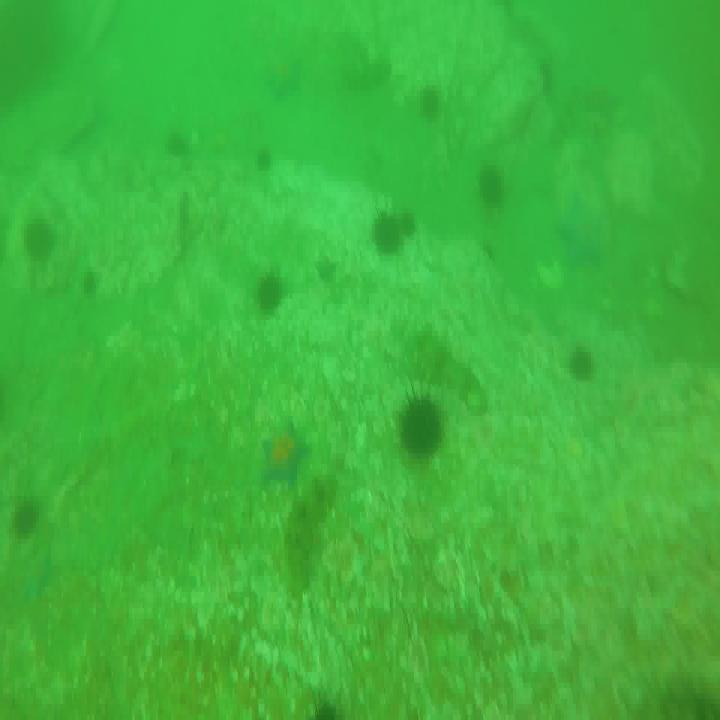echinus: (398, 384, 446, 467), (370, 210, 402, 254), (256, 272, 286, 318), (482, 162, 507, 206), (164, 125, 192, 162), (13, 498, 38, 538), (27, 225, 54, 261), (568, 347, 596, 379), (310, 694, 342, 720), (418, 89, 440, 117), (83, 267, 100, 299), (257, 149, 273, 183), (397, 210, 417, 234)
holothurian: (288, 452, 339, 609), (408, 322, 488, 413)
starfish: (563, 195, 604, 271), (20, 546, 60, 607), (265, 426, 304, 483), (314, 257, 337, 289)
